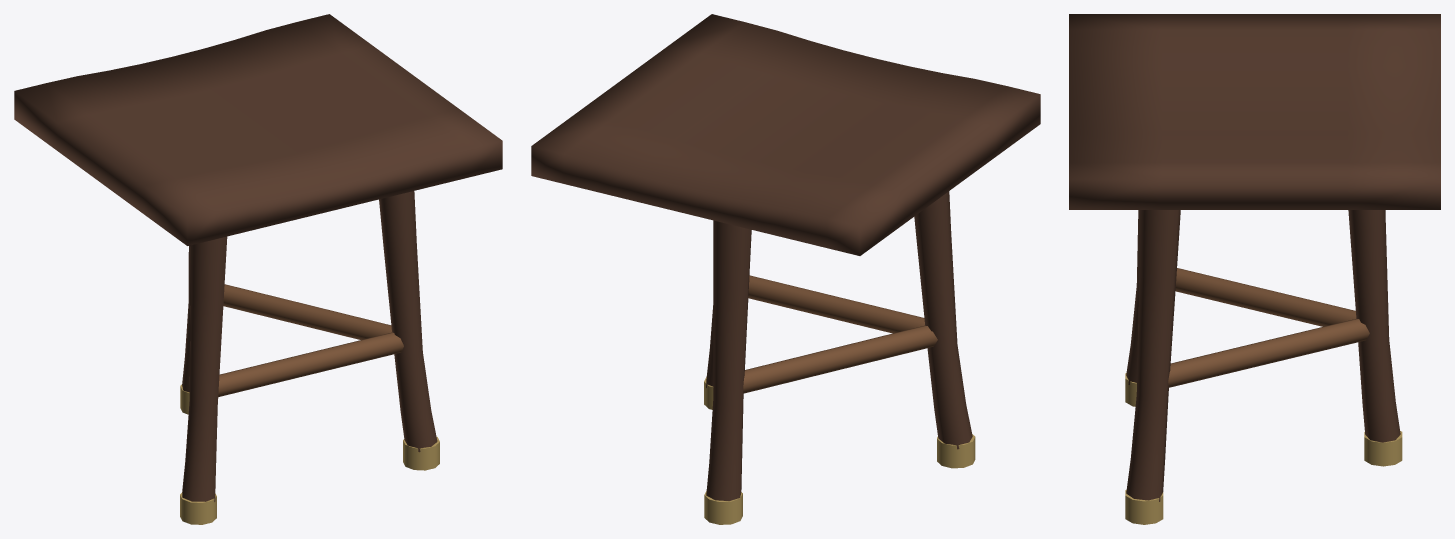
File: rpg-mansion-saddle-stool-01.glb
3 renders of one model, left to right at view 1: azimuth 30°, elevation 25°; view 2: azimuth 150°, elevation 25°; view 3: azimuth 270°, elevation 25°, orthographic. The views are drawn at different scales.
Visible parts, largest first — view 1: rpg-mansion-saddle-stool-01; view 2: rpg-mansion-saddle-stool-01; view 3: rpg-mansion-saddle-stool-01.
Boxes of the visible parts, <box> form: rpg-mansion-saddle-stool-01: <box>14,14,502,524</box>; rpg-mansion-saddle-stool-01: <box>531,14,1040,524</box>; rpg-mansion-saddle-stool-01: <box>1069,14,1440,524</box>.
Bounding box in the file's own units: 0.451 × 0.46 × 0.429.
